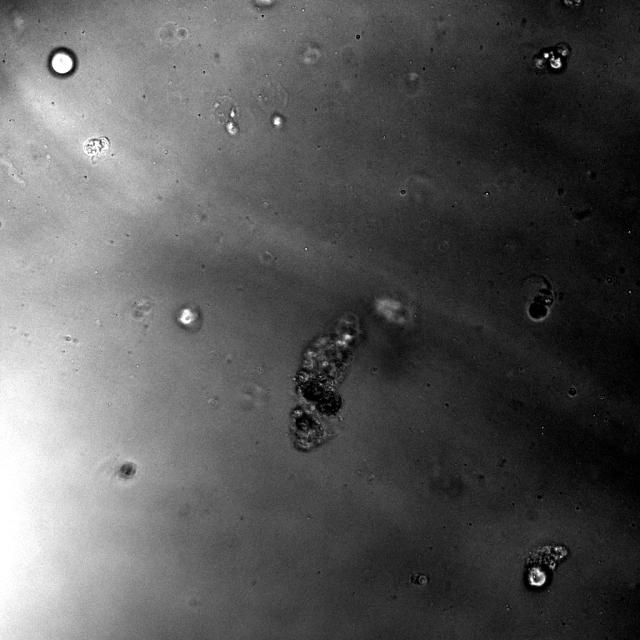organoid: (289, 314, 361, 450), (371, 293, 419, 338), (523, 545, 568, 590), (525, 274, 555, 323), (533, 43, 571, 73), (48, 46, 78, 76), (174, 303, 203, 333), (83, 136, 110, 164), (225, 108, 239, 135), (117, 461, 136, 480), (271, 112, 286, 129), (411, 572, 428, 585), (567, 386, 578, 398)
